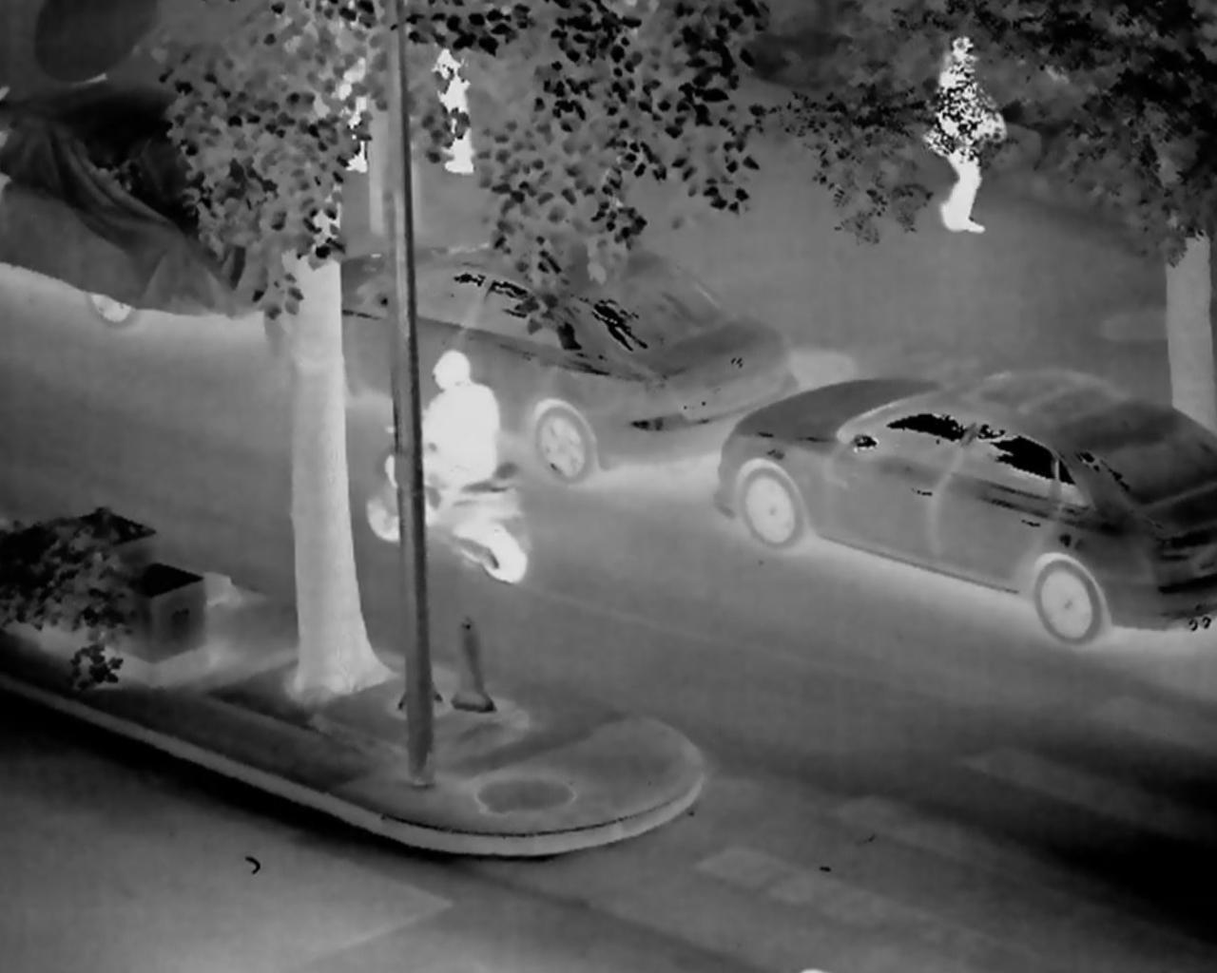person: (389, 350, 508, 531), (916, 28, 1002, 240), (423, 32, 486, 188)
